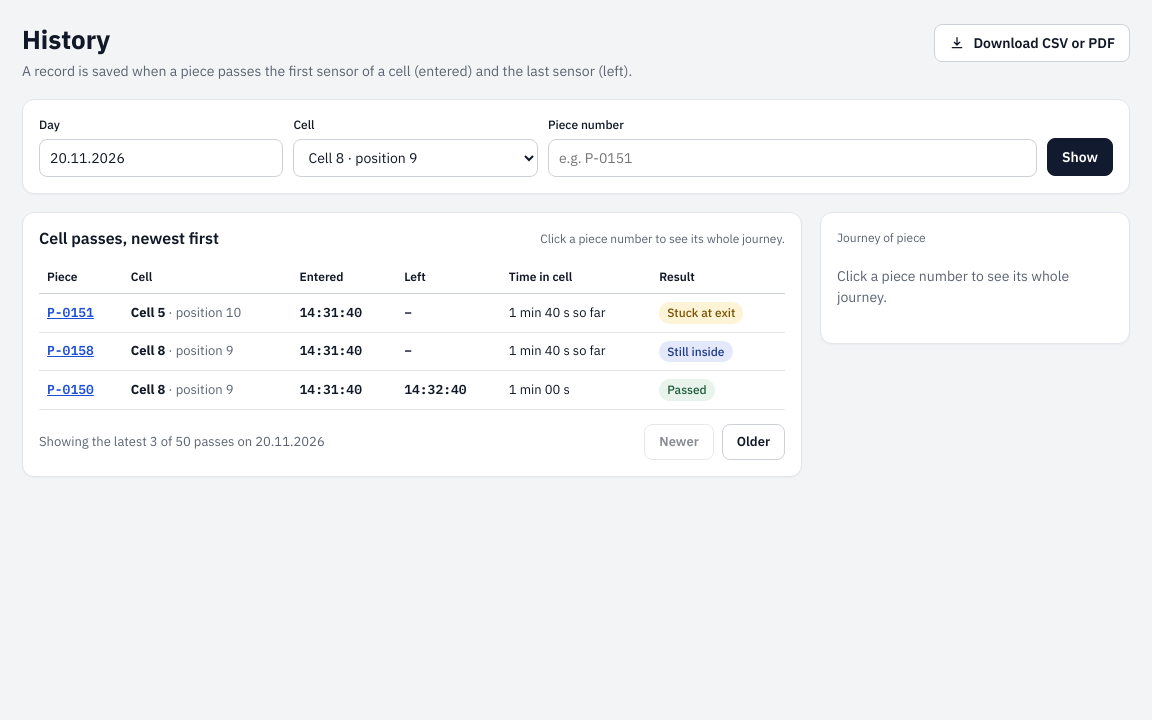
Test case: History downloads › offers CSV and PDF downloads with the chosen range
The image size is (1152, 720).
Click the button "Download CSV or PDF": {"x": 1032, "y": 43} [934,24,1130,62]
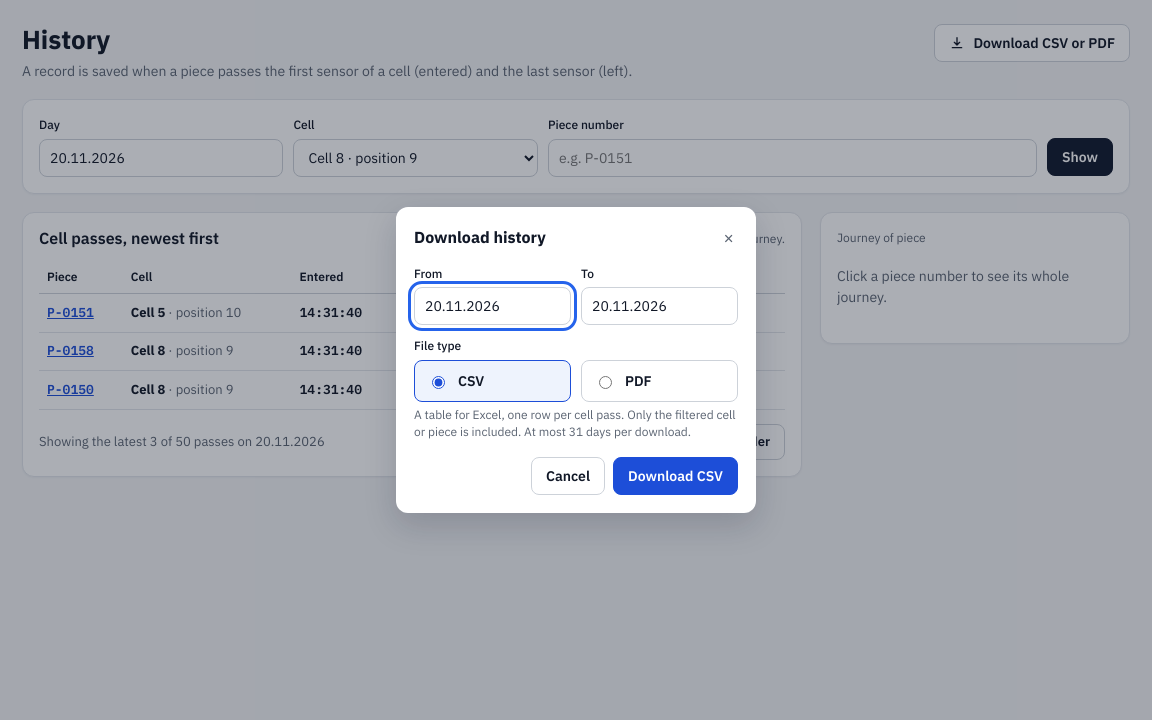
Click the radio button labelled "PDF": {"x": 606, "y": 382} [599,376,612,389]
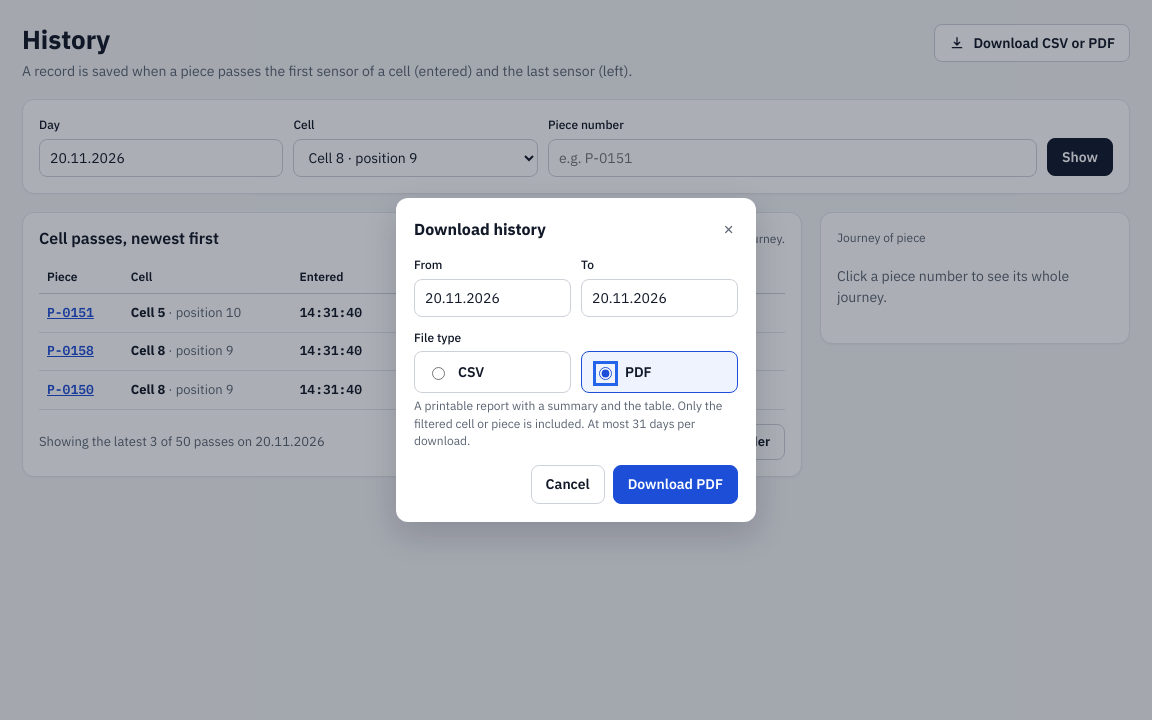
Clear the field labelled "To": {"x": 660, "y": 298} [581,279,738,317]
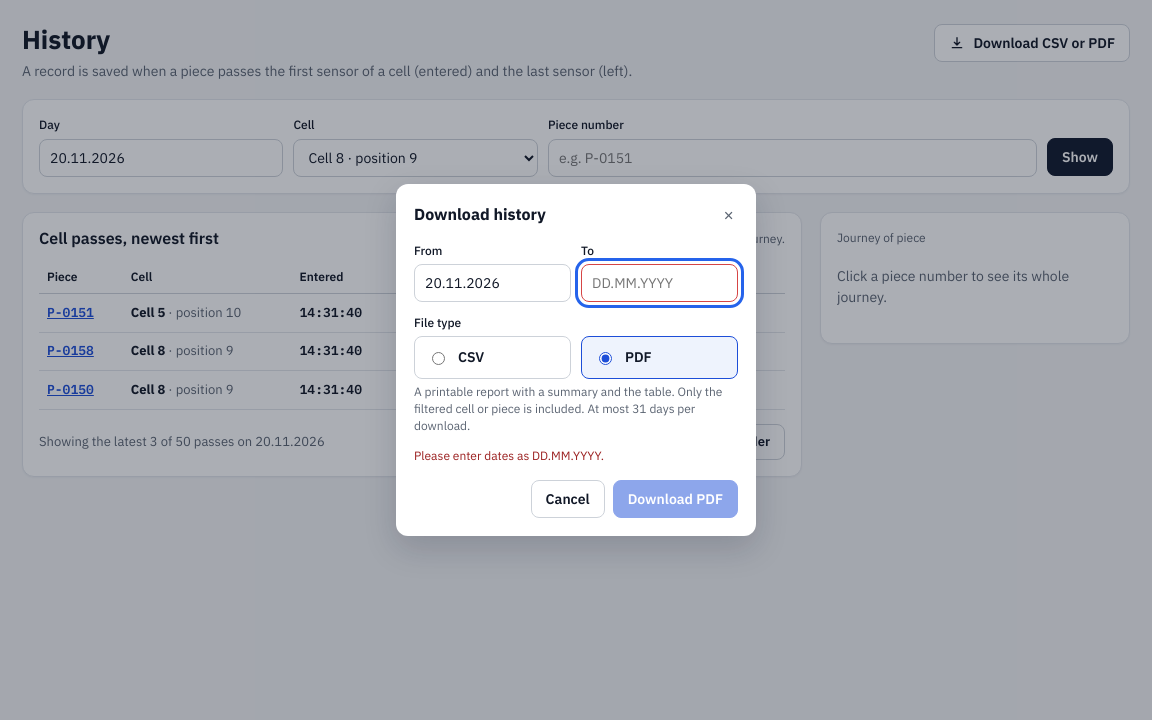
In the field labelled "To": {"x": 660, "y": 283} [581,264,738,302], type "19.11.2026"
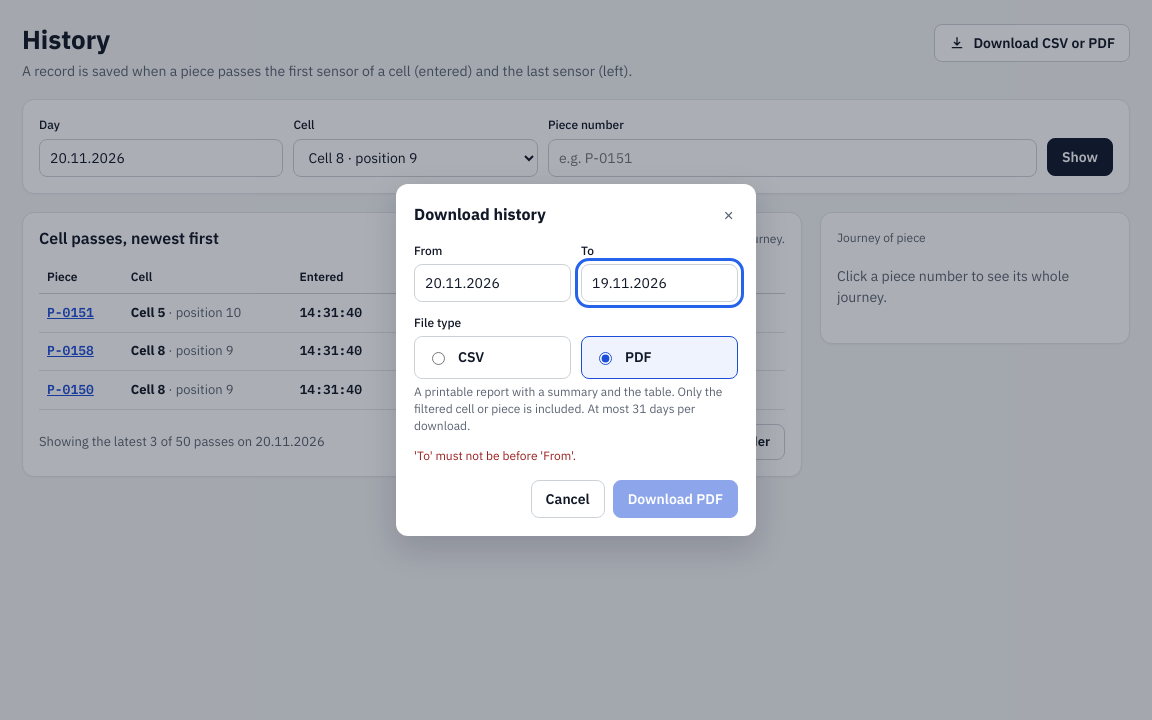
Check: the button "Download PDF" is disabled, box [613,480,738,518]
Check: the message reads "'To' must not be before 'From'.", box [414,448,576,463]
